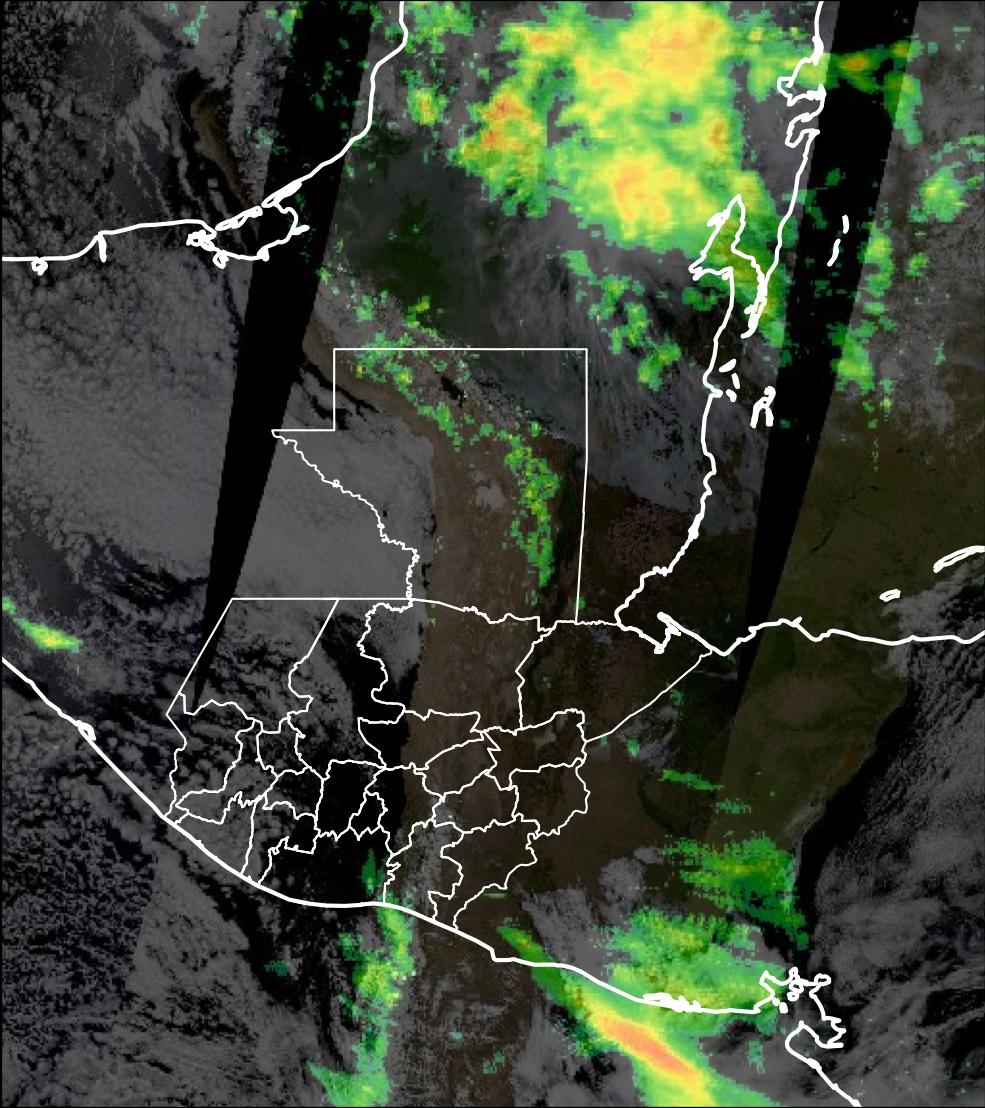precipitacion: (592, 1003, 729, 1104)
